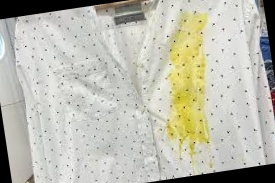mustard: (151, 12, 224, 171)
